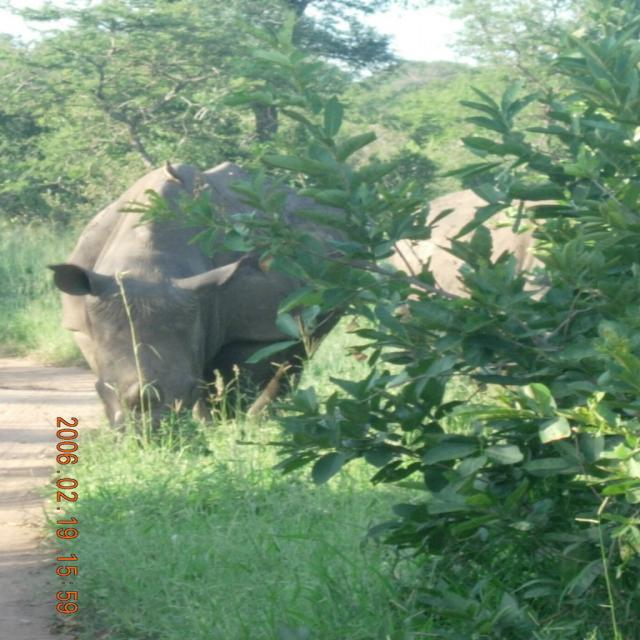elephant: (36, 171, 347, 437)
